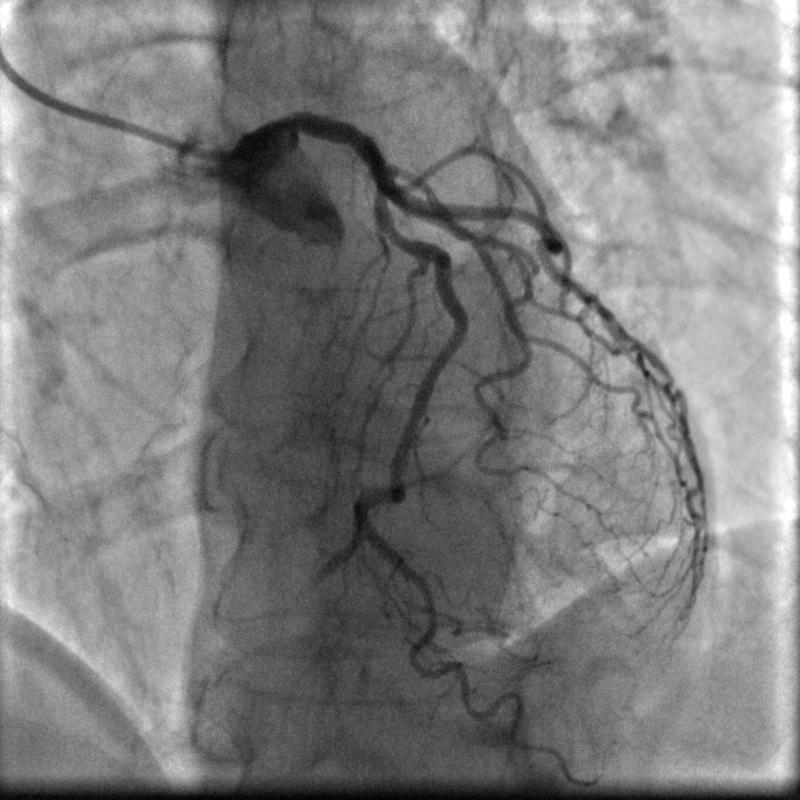Stenosis: (383, 226, 413, 248)
